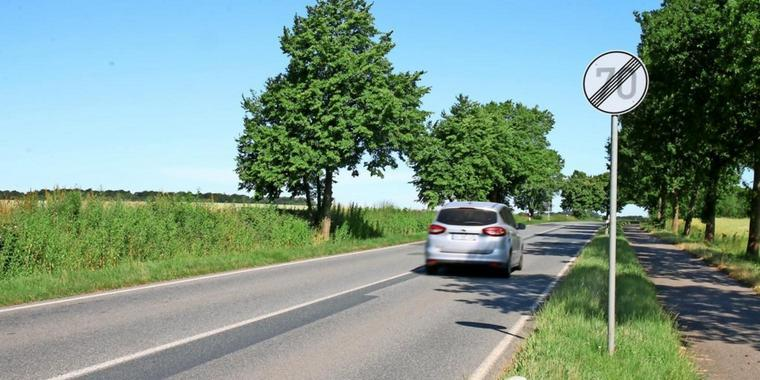aufgehoben: (582, 50, 650, 115)
